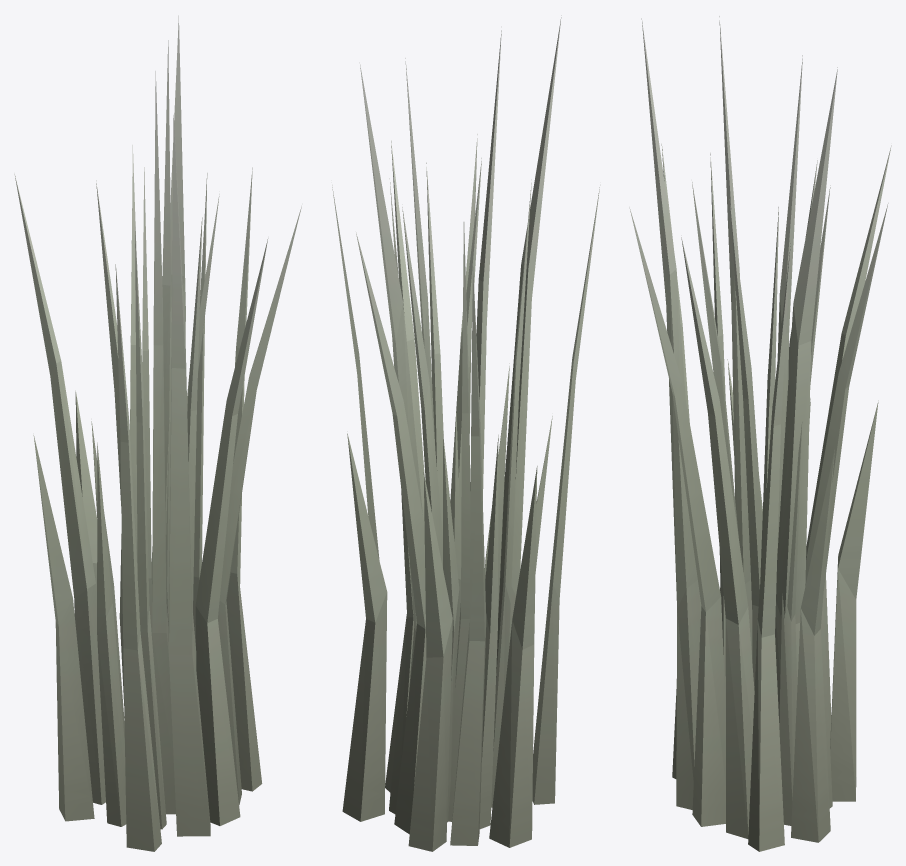
File: tallgrass_b.glb
The picture shows the model from 3 angles, left to right: view 1: azimuth 30°, elevation 25°; view 2: azimuth 150°, elevation 25°; view 3: azimuth 270°, elevation 25°; orthographic projection.
Visible parts, largest first — view 1: GrassHigh_D_4; view 2: GrassHigh_D_4; view 3: GrassHigh_D_4.
Boxes of the visible parts, x1,y1,x2,y2 form: GrassHigh_D_4: [14, 15, 301, 851]; GrassHigh_D_4: [332, 15, 600, 851]; GrassHigh_D_4: [629, 16, 891, 851].
Bounding box in the file's own units: 0.2456 × 0.85 × 0.2612.
Materials: 1 (1 with a texture image).
